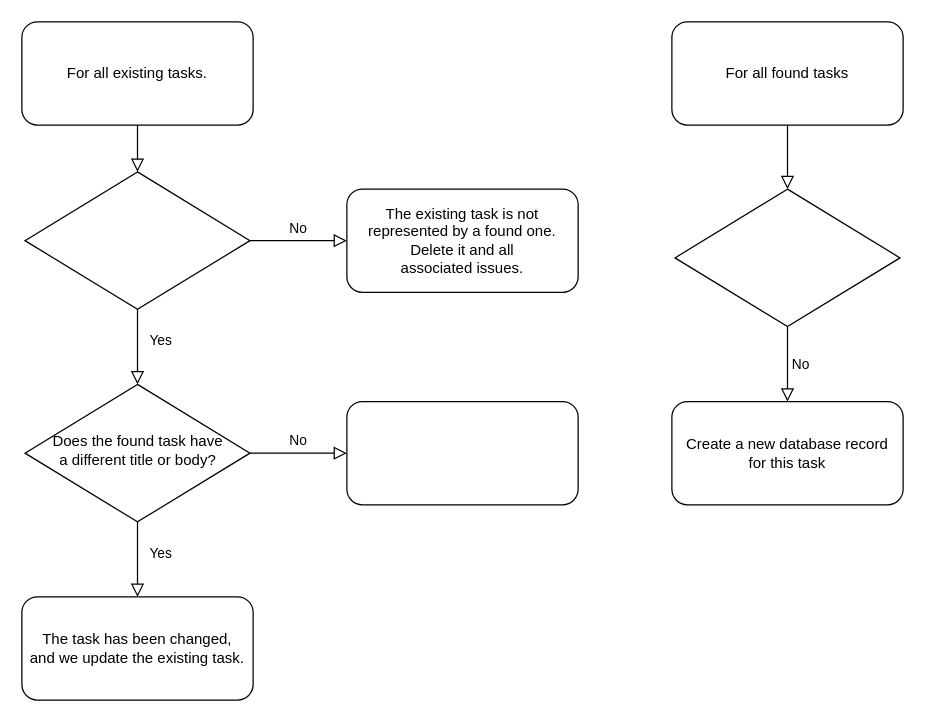
Image size: 925x723. Some labels were removed from this diagram. The shapes that lost their labels are listed below. From the top down, each one's centre as x and y in pixels, then its label:
point 137,240: Is there a found task with the same name?
point 787,257: Is there an existing task with the same name?
point 462,452: The existing task does not need to be changed.
